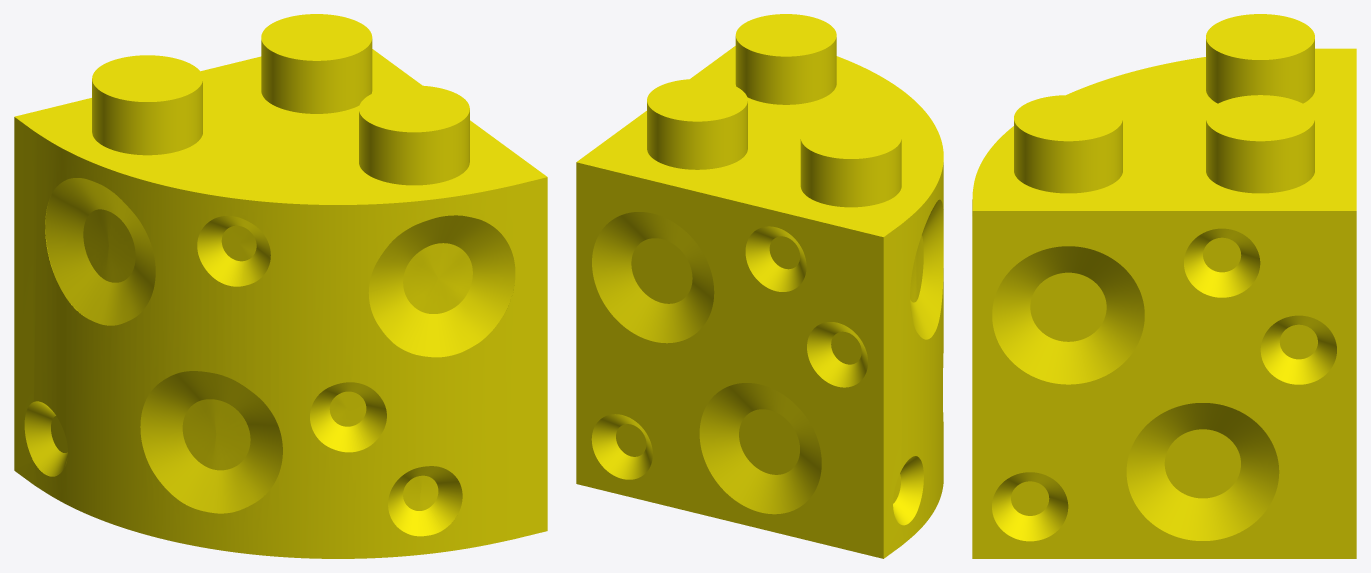
Rendered from Cheese Wedge.glb.
The picture shows the model from 3 angles, left to right: view 1: azimuth 30°, elevation 25°; view 2: azimuth 150°, elevation 25°; view 3: azimuth 270°, elevation 25°; orthographic projection. The views are drawn at different scales.
Parts seen in each view (by area): view 1: Cheese Wedge; view 2: Cheese Wedge; view 3: Cheese Wedge.
Boxes of the visible parts, <box> form: Cheese Wedge: <box>14,14,547,558</box>; Cheese Wedge: <box>576,14,943,558</box>; Cheese Wedge: <box>972,14,1356,558</box>.
Bounding box in the file's own units: 0.02 × 0.023 × 0.02.
